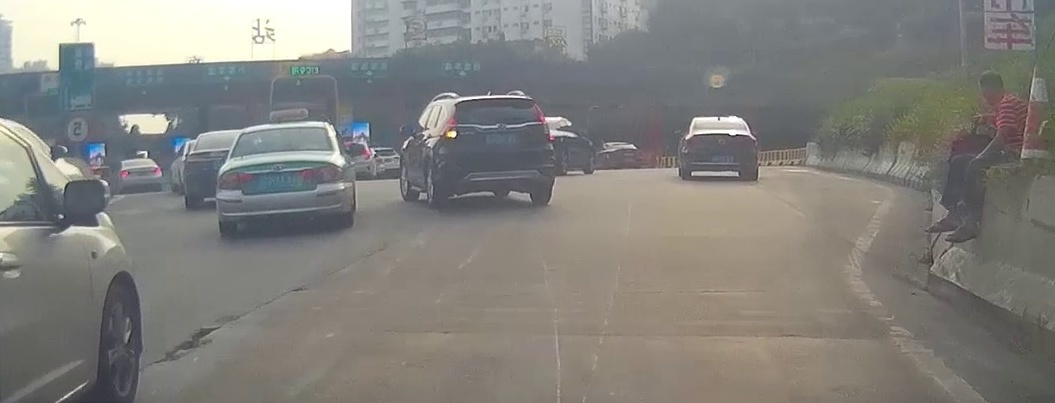L_light: (219, 172, 255, 188), (441, 108, 458, 141), (685, 136, 704, 145)
R_light: (303, 165, 344, 181), (535, 109, 552, 141), (738, 135, 757, 146)
T_light: (268, 127, 294, 132), (487, 97, 505, 103), (713, 119, 724, 122)
day-left: (436, 94, 555, 206)
day-no: (216, 122, 350, 237), (680, 115, 759, 179)
